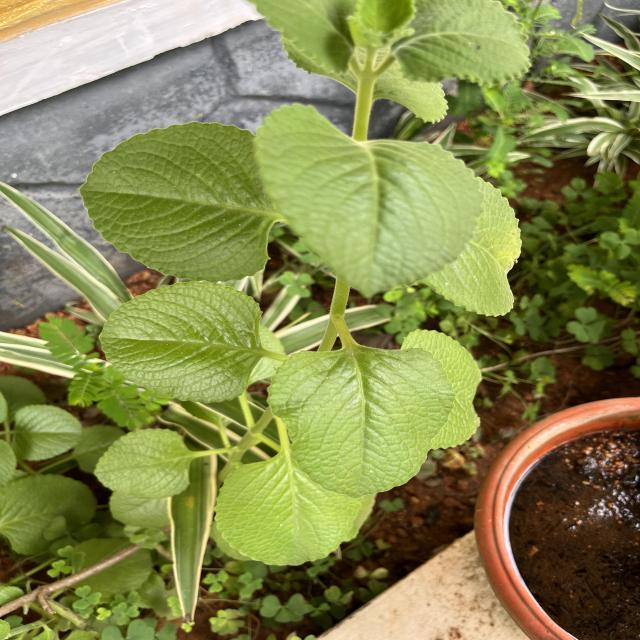Plectranthus barbatus: (250, 98, 483, 300), (76, 120, 280, 282), (266, 345, 456, 500), (97, 280, 263, 405), (214, 458, 362, 568), (421, 175, 524, 318), (0, 472, 98, 556), (92, 426, 192, 499), (11, 403, 84, 462)
